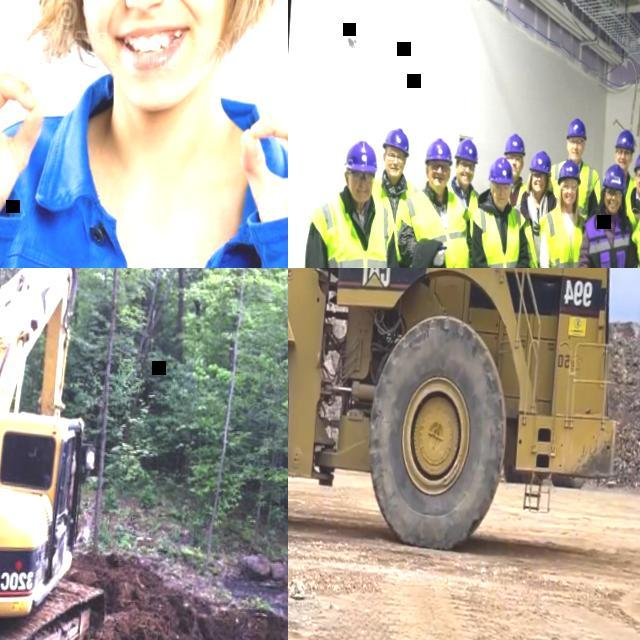helmet: (342, 138, 380, 174), (380, 125, 411, 157), (424, 136, 454, 166), (487, 156, 514, 184), (556, 158, 582, 186), (602, 163, 628, 190), (453, 138, 480, 164), (528, 149, 553, 175), (502, 132, 526, 156), (564, 118, 588, 140), (614, 129, 636, 152), (632, 148, 640, 175)
vest: (298, 185, 397, 268), (390, 184, 473, 268), (364, 175, 423, 268), (463, 202, 527, 268), (531, 207, 586, 268), (576, 211, 633, 268), (547, 158, 600, 218), (505, 199, 545, 268), (443, 182, 480, 236), (590, 171, 634, 209), (622, 186, 640, 229), (506, 182, 526, 208)
